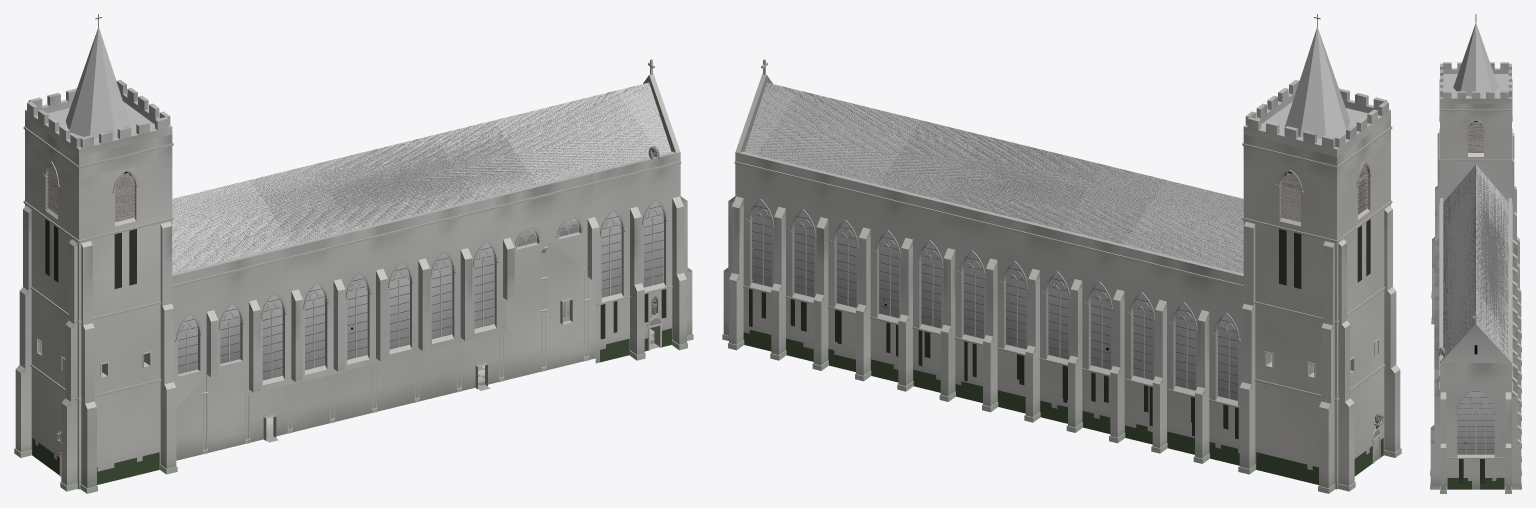
The model's file is env_church.glb.
3 renders of one model, left to right at view 1: azimuth 30°, elevation 25°; view 2: azimuth 150°, elevation 25°; view 3: azimuth 270°, elevation 25°, orthographic. The views are drawn at different scales.
Parts seen in each view (by area): view 1: Walls, Tower, Roof, Windows, Dressing, TowerWindows; view 2: Walls, Tower, Roof, Windows, Dressing, TowerWindows; view 3: Walls, Roof, Tower, Windows, Dressing, TowerWindows.
Boxes of the visible parts, box(x1,y1,x2,y2) form: Walls: box(172, 59, 693, 460); Tower: box(14, 14, 659, 493); Roof: box(172, 82, 675, 275); Windows: box(178, 201, 663, 379); Dressing: box(32, 219, 671, 484); TowerWindows: box(47, 164, 135, 222); Walls: box(722, 59, 1243, 463); Tower: box(1238, 14, 1401, 493); Roof: box(740, 82, 1243, 275); Windows: box(752, 201, 1237, 400); Dressing: box(743, 219, 1383, 484); TowerWindows: box(1280, 164, 1368, 222); Walls: box(1430, 203, 1521, 493); Roof: box(1440, 164, 1511, 360); Tower: box(1431, 14, 1519, 355); Windows: box(1457, 390, 1494, 454); Dressing: box(1447, 459, 1504, 489); TowerWindows: box(1468, 121, 1483, 152).
Size of the model in its own units: 59.15 by 40.4 by 11.3.
